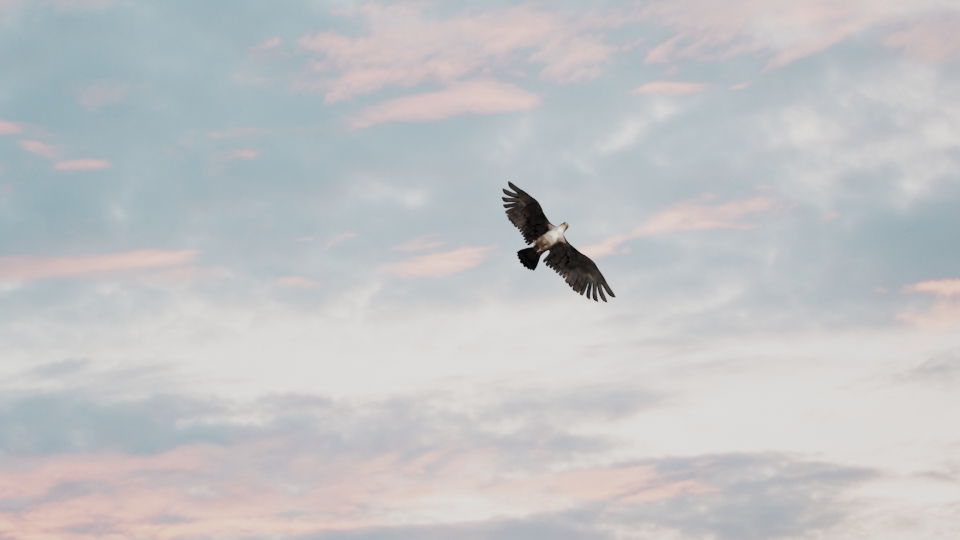bird: (501, 180, 616, 301)
